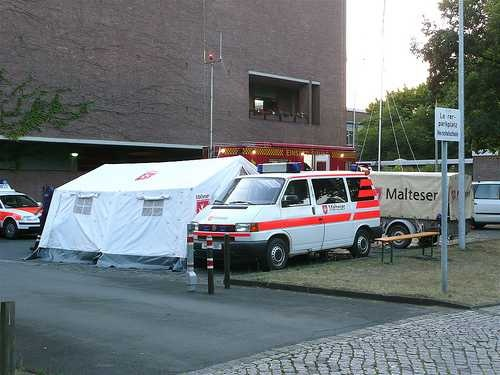Police Car: (180, 157, 392, 284)
